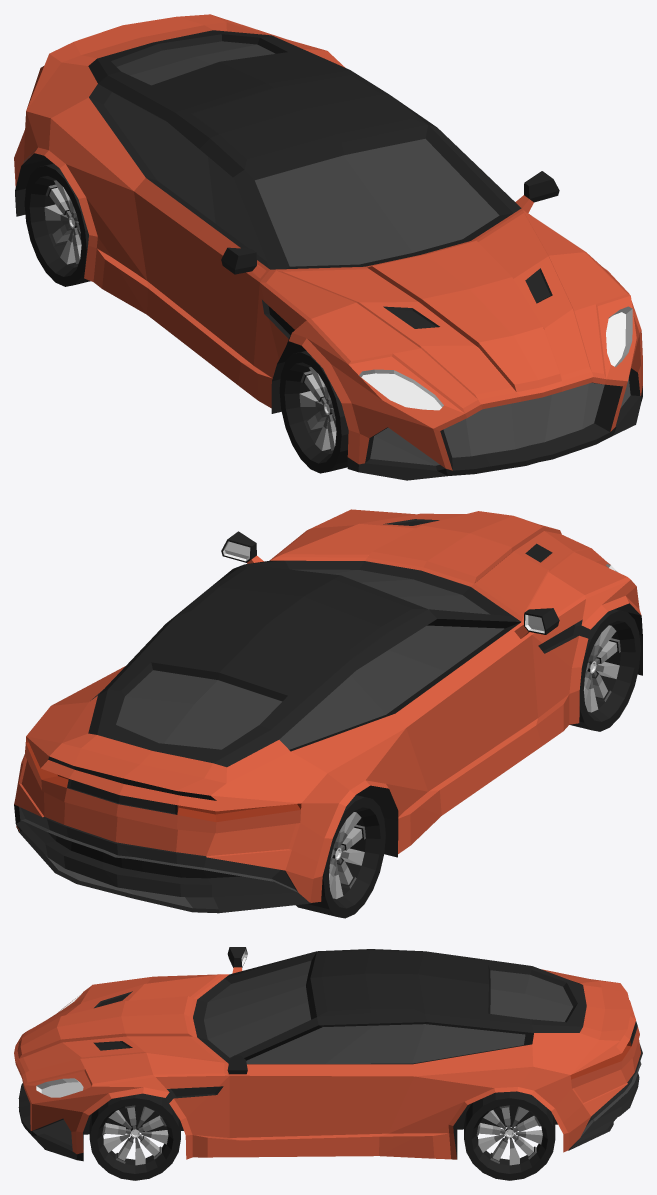
File: astonmartindbssuperleggera.fbx
The picture shows the model from 3 angles, top to bottom: view 1: azimuth 30°, elevation 25°; view 2: azimuth 150°, elevation 25°; view 3: azimuth 270°, elevation 25°; orthographic projection. The views are drawn at different scales.
Parts seen in each view (by area): view 1: RedBody, FrontRight, BackRight; view 2: RedBody, BackRight, FrontRight; view 3: RedBody, BackLeft, FrontLeft.
Boxes of the visible parts, x1,y1,x2,y2 form: RedBody: (14, 14, 642, 480); FrontRight: (279, 350, 348, 473); BackRight: (24, 163, 90, 286); RedBody: (14, 509, 642, 913); BackRight: (296, 795, 385, 918); FrontRight: (569, 609, 640, 731); RedBody: (14, 947, 642, 1161); BackLeft: (464, 1091, 555, 1180); FrontLeft: (89, 1093, 180, 1180).
Size of the model in its own units: 2.06 by 4.71 by 1.27.
